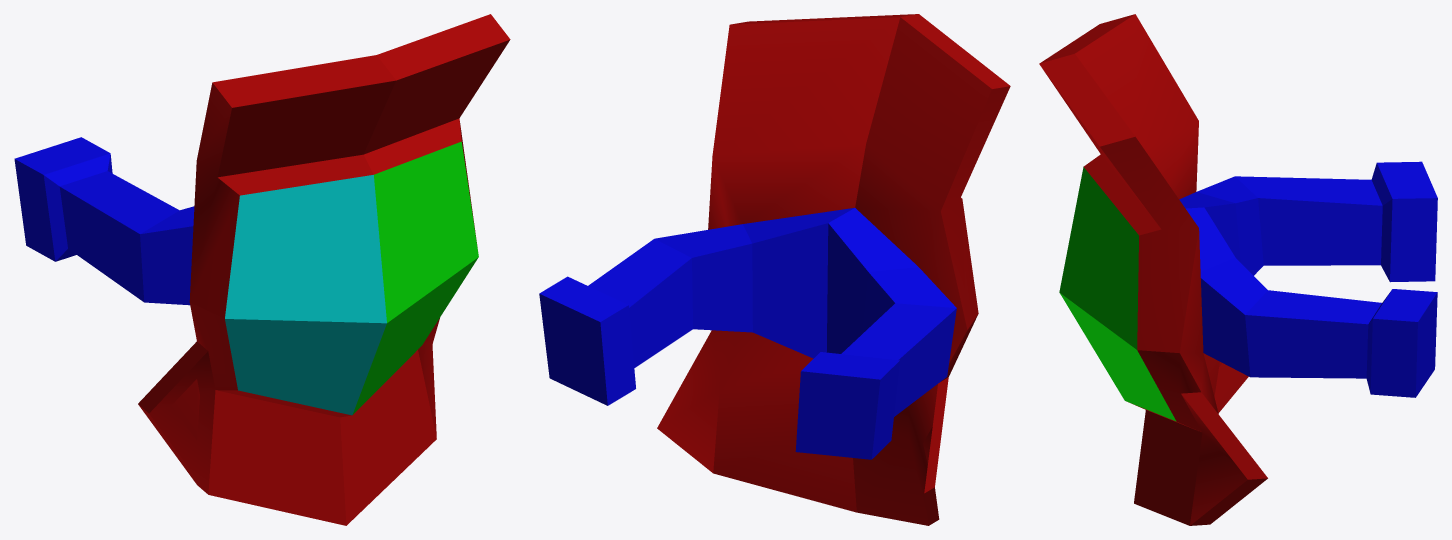
File: Chr_KneeAttachRight_Static_05.fbx
3 renders of one model, left to right at view 1: azimuth 30°, elevation 25°; view 2: azimuth 150°, elevation 25°; view 3: azimuth 270°, elevation 25°, orthographic. The views are drawn at different scales.
Parts seen in each view (by area): view 1: Chr_KneeAttachRight_05; view 2: Chr_KneeAttachRight_05; view 3: Chr_KneeAttachRight_05.
Boxes of the visible parts, left/top/right/bottom form: Chr_KneeAttachRight_05: left=14, top=14, right=510, bottom=525; Chr_KneeAttachRight_05: left=539, top=14, right=1010, bottom=525; Chr_KneeAttachRight_05: left=1039, top=14, right=1437, bottom=525.
Bounding box in the file's own units: 14.54 × 18.9 × 15.22.
